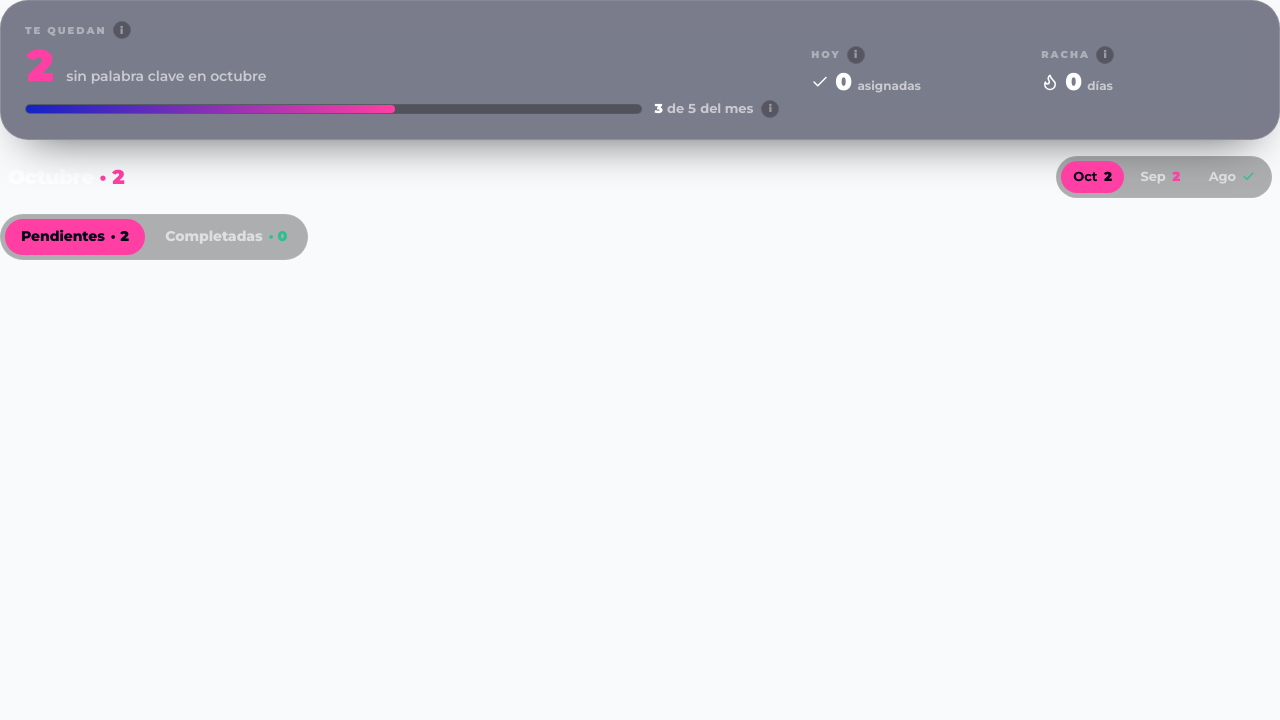
MisAgendas · un mes por vez › el selector cambia de mes
Expected: the element named "Tu avance" is shown, [0,0,1279,140]
What coordinates should you click on to do the following:
click the button with aria-label "Septiembre, 2 sin palabra clave"
I would click on:
 (1161, 176)
Its box is [1128,160,1193,192].
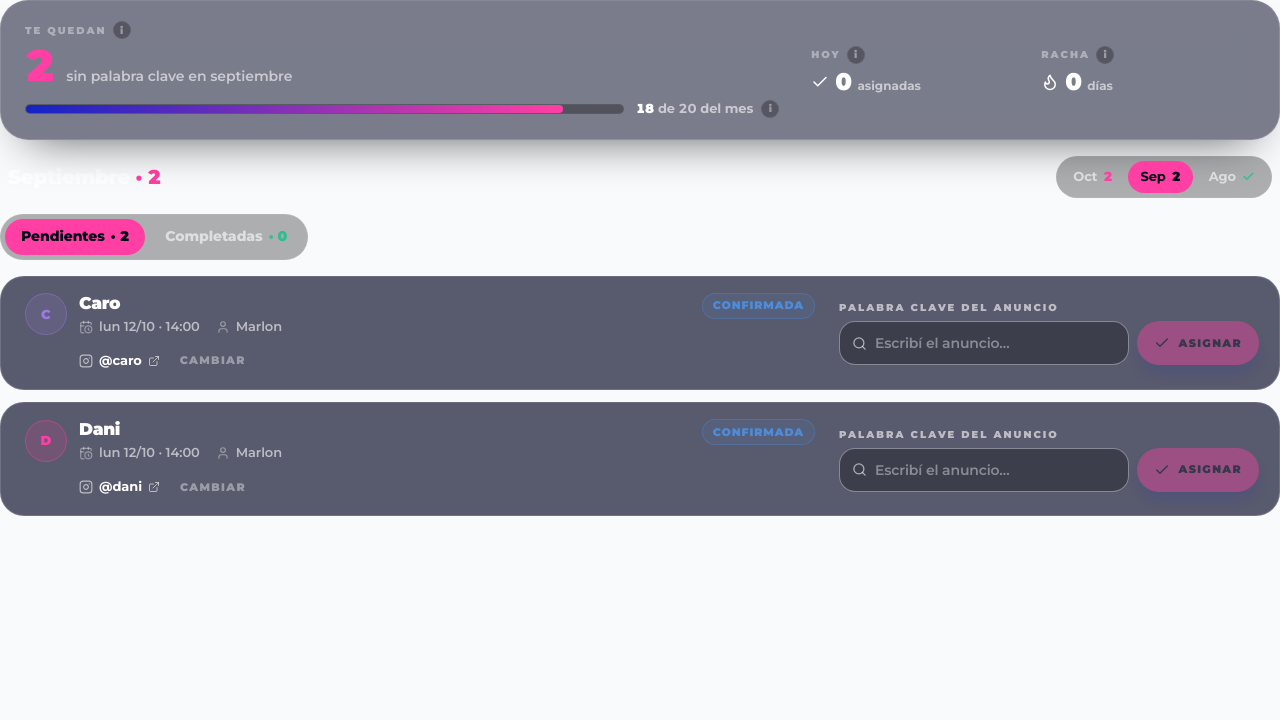
Now the heading "Septiembre · 2" is shown, box [8,162,161,192]
